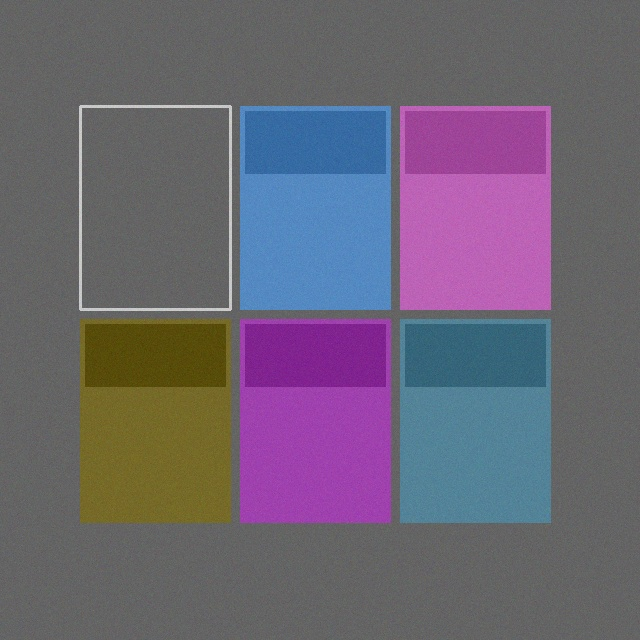space-empty: (80, 106, 230, 309)
space-occupied: (240, 106, 390, 309), (400, 106, 550, 309), (80, 319, 230, 522), (240, 319, 390, 522), (400, 319, 550, 522)
